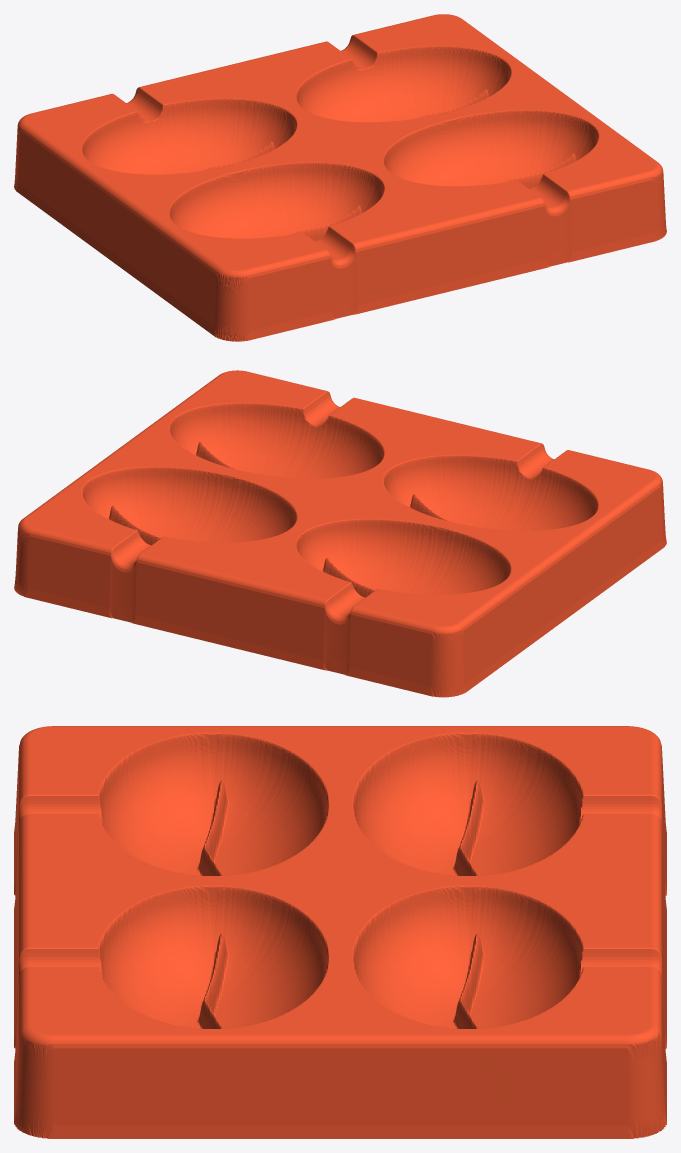
File: mold.glb
3 renders of one model, top to bottom at view 1: azimuth 30°, elevation 25°; view 2: azimuth 150°, elevation 25°; view 3: azimuth 270°, elevation 25°, orthographic. The views are drawn at different scales.
Parts seen in each view (by area): view 1: geometry_0; view 2: geometry_0; view 3: geometry_0.
Boxes of the visible parts, box(x1,y1,x2,y2) form: geometry_0: box(14, 14, 666, 341); geometry_0: box(14, 370, 666, 697); geometry_0: box(14, 726, 666, 1138).
Size of the model in its own units: 0.1726 by 0.0245 by 0.1485.
